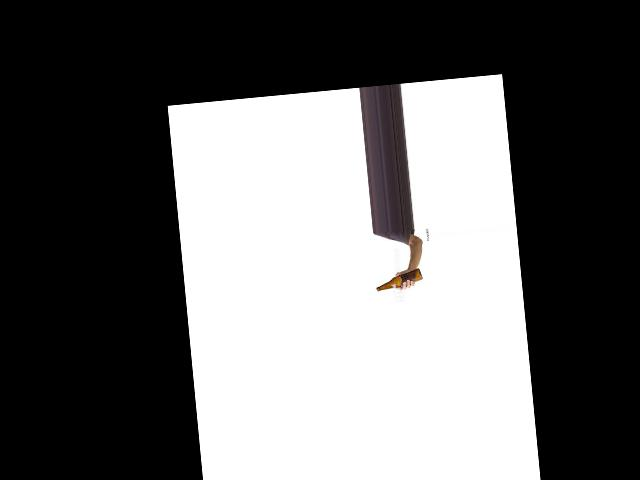beer: (374, 267, 423, 291)
